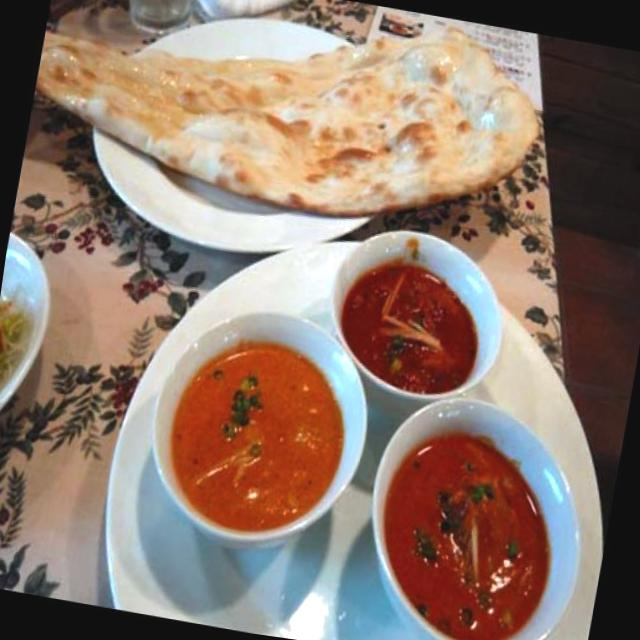Beef Curry: (391, 429, 556, 616)
